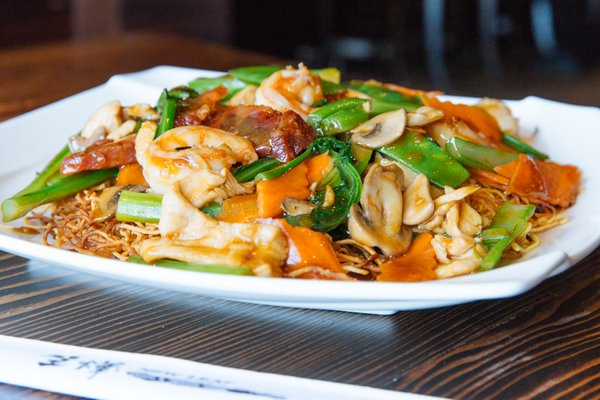sushi: (3, 48, 599, 315)
